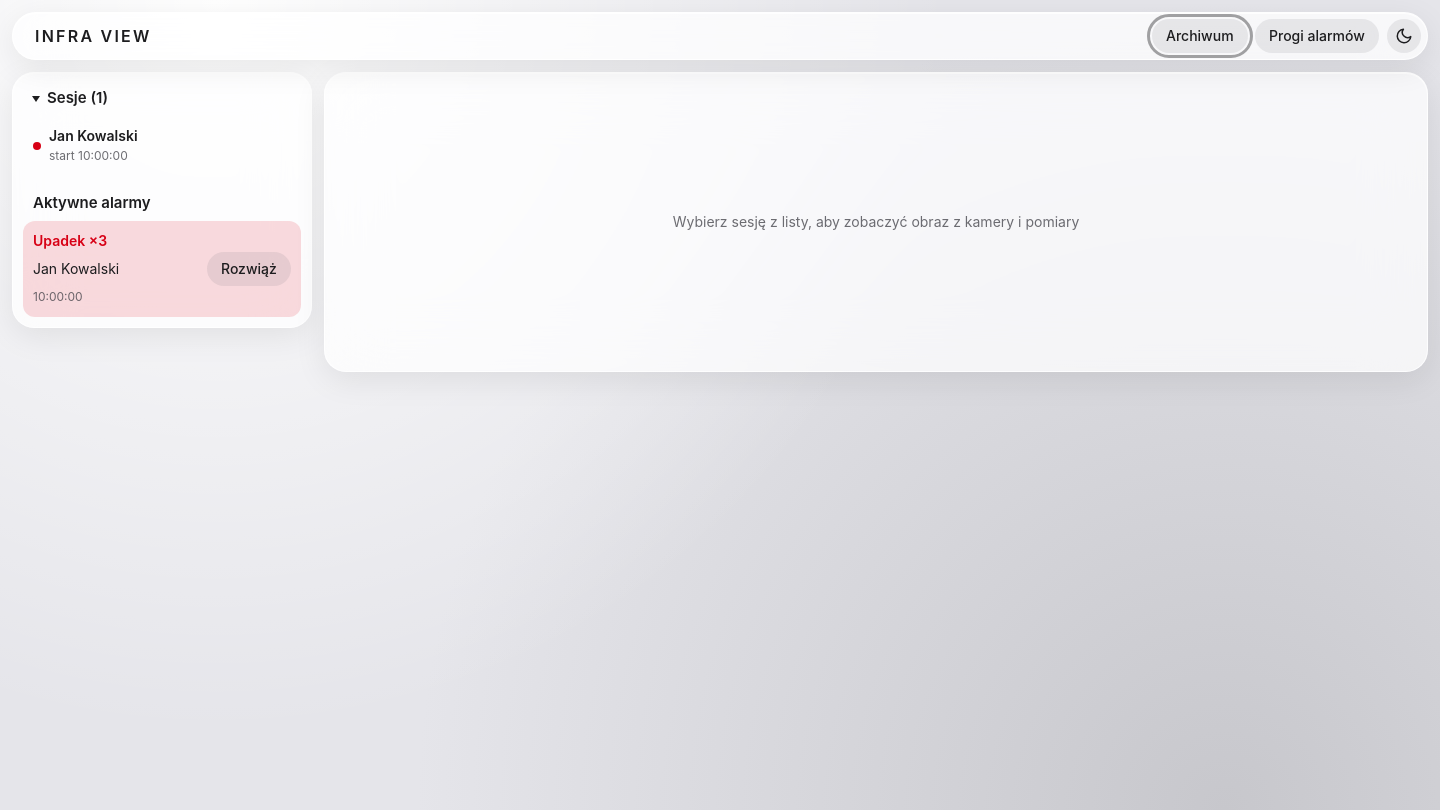
Test: Esc zamyka okno i oddaje fokus przyciskowi, który je otworzył
The image size is (1440, 810).
Click the button "Archiwum".
click(1199, 36)  # box [1152, 19, 1247, 53]
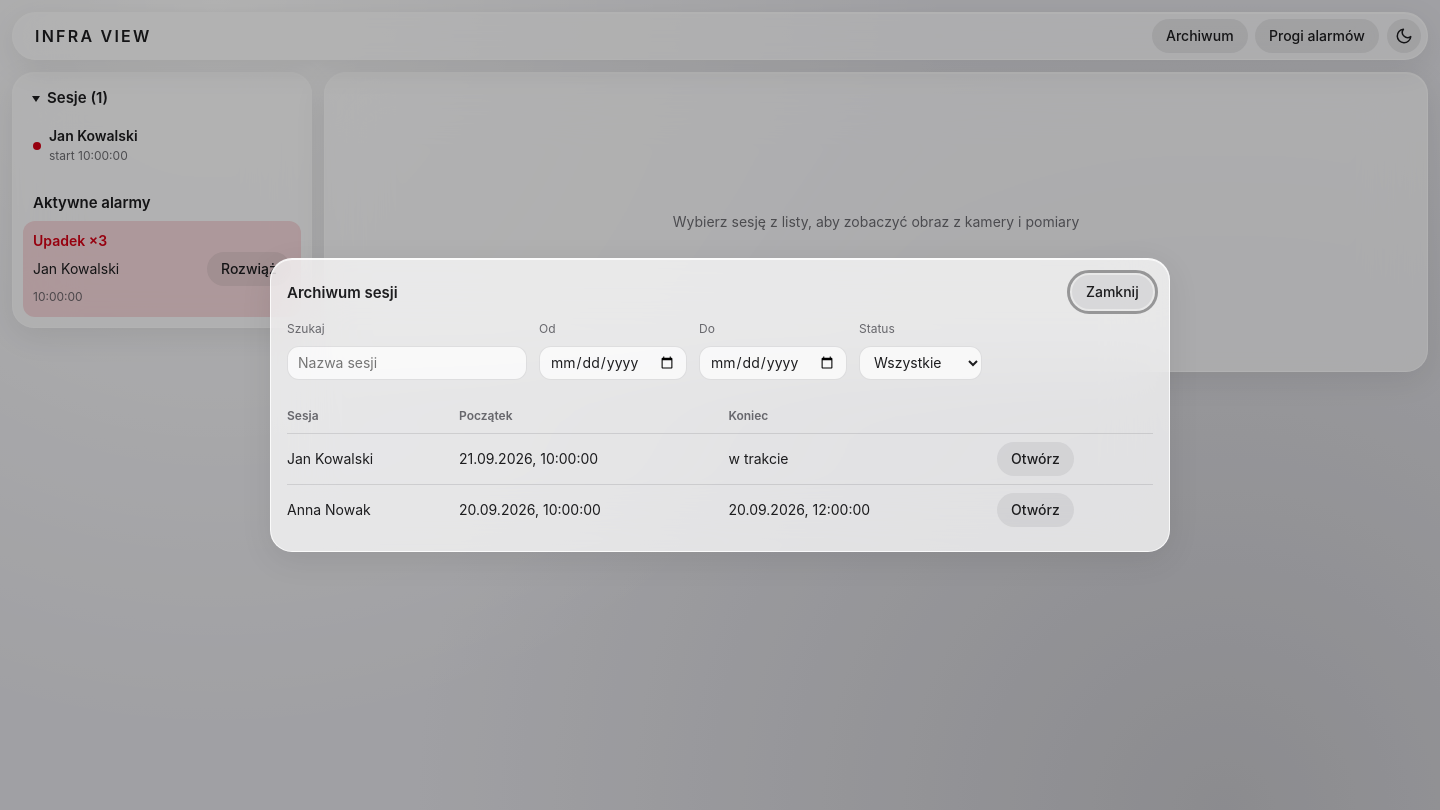
Press Escape in the dialog "Archiwum sesji", box [270, 258, 1170, 552]
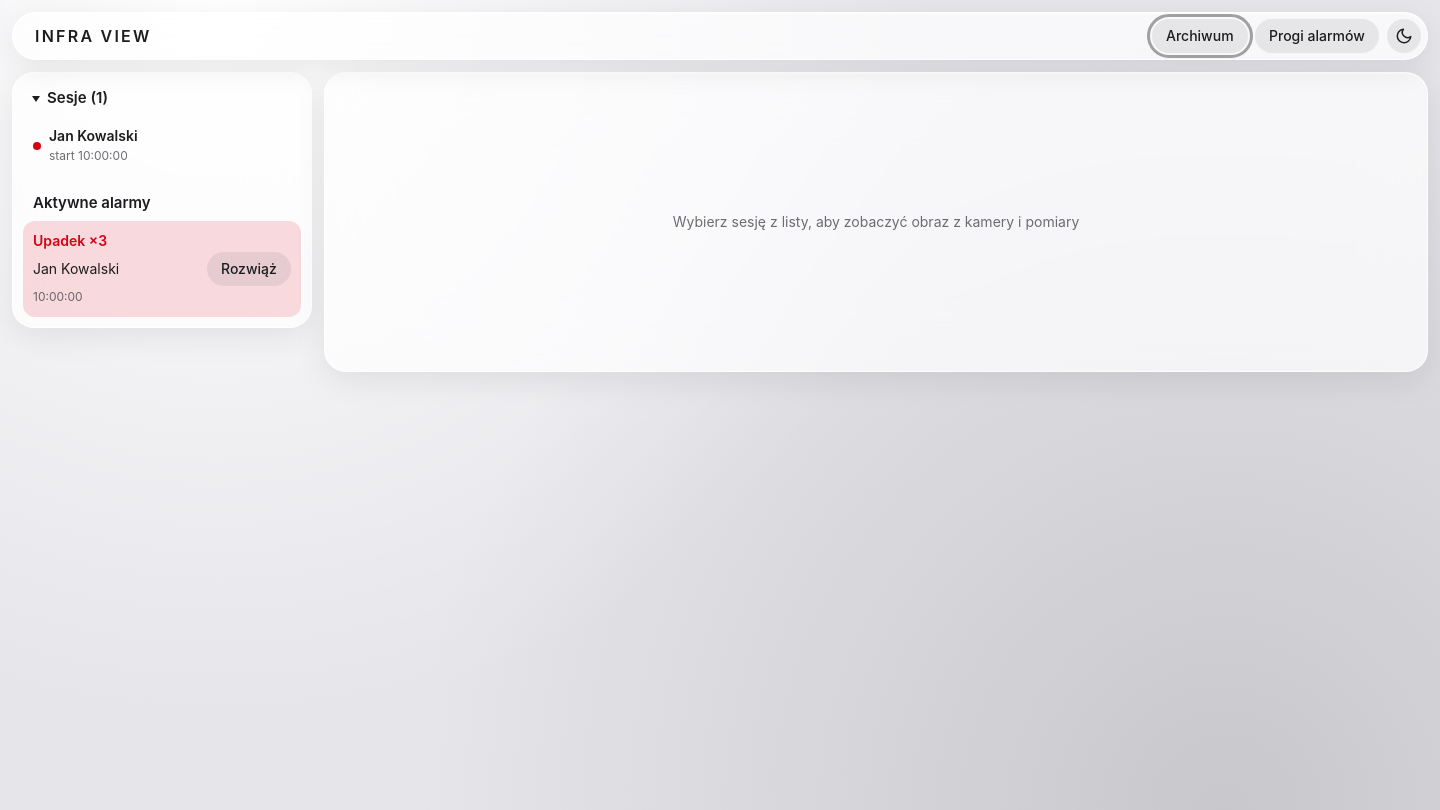
Result: the dialog is gone
